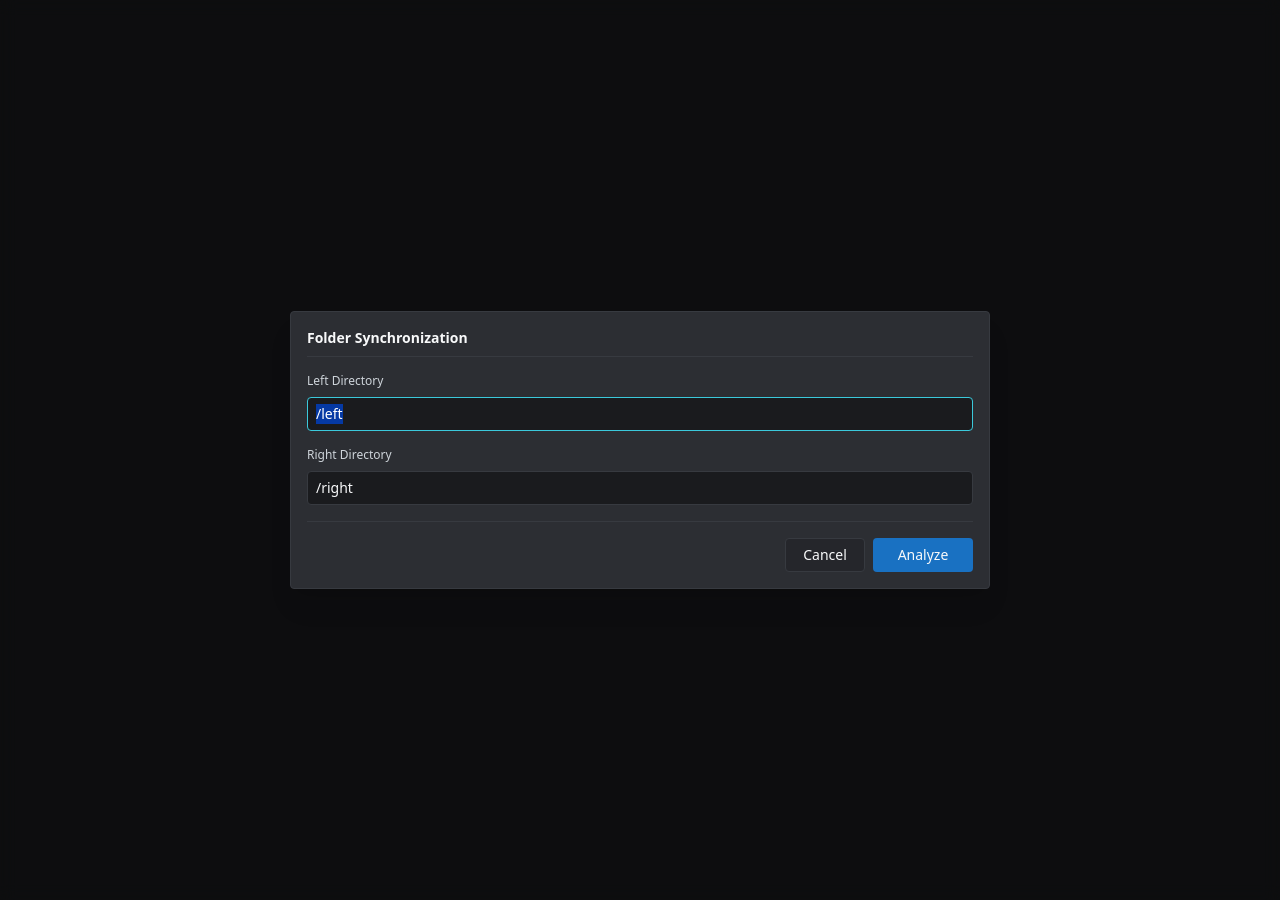
Test: SyncDialog › separates an empty comparison from a failed comparison
This screenshot has width=1280, height=900.
Click the button "Analyze" at {"x": 923, "y": 555}, box top-left (873, 538), bottom-right (973, 572)
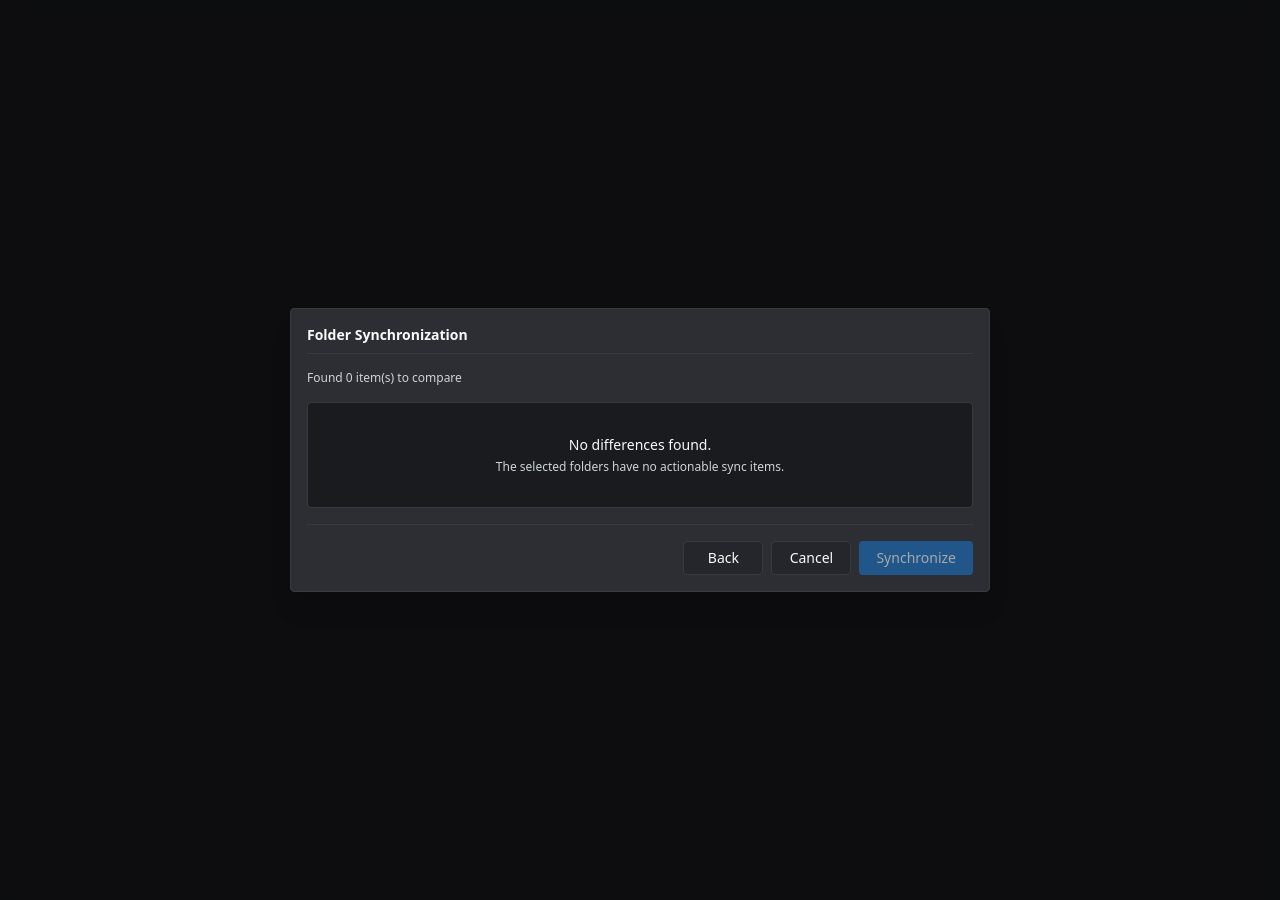
Expected: the text "No differences found." is shown, top-left (569, 435), bottom-right (711, 454)
Expected: the text "The selected folders have no actionable sync items." is shown, top-left (496, 458), bottom-right (784, 475)
Expected: the button "Synchronize" is disabled, top-left (859, 541), bottom-right (973, 575)
